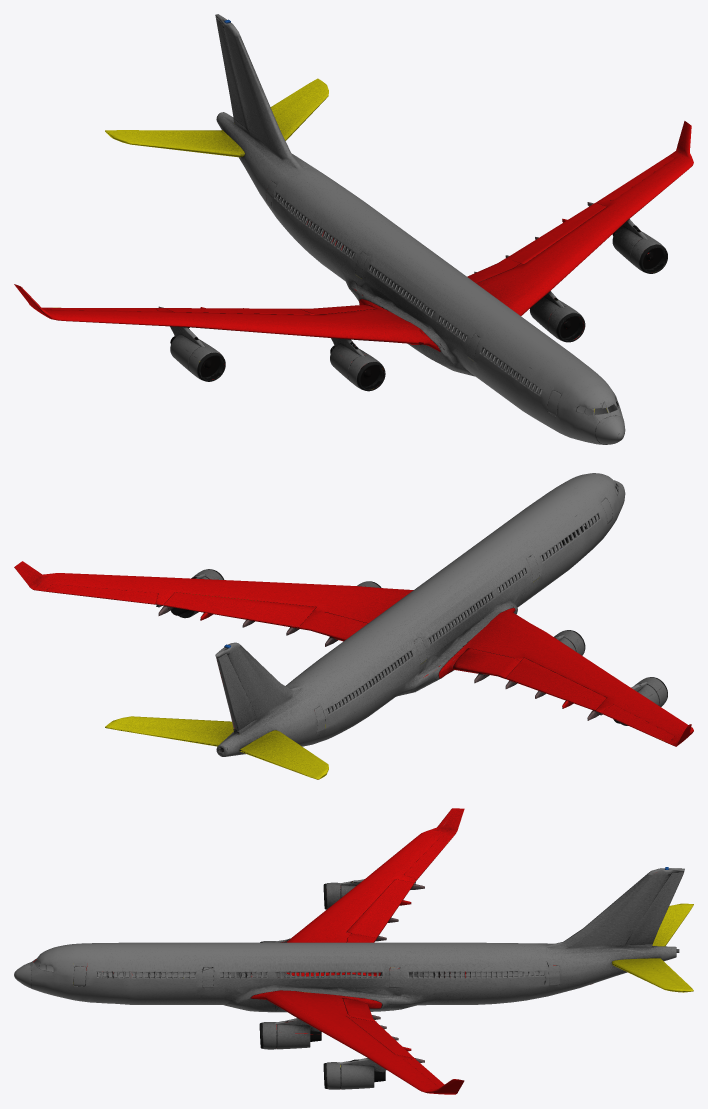
Rendered from airbus_c.obj.
The picture shows the model from 3 angles, top to bottom: view 1: azimuth 30°, elevation 25°; view 2: azimuth 150°, elevation 25°; view 3: azimuth 270°, elevation 25°; orthographic projection. The views are drawn at different scales.
Bounding box in the file's own units: 16.8 × 4.02 × 17.75.
Materials: 13 (12 with a texture image).
